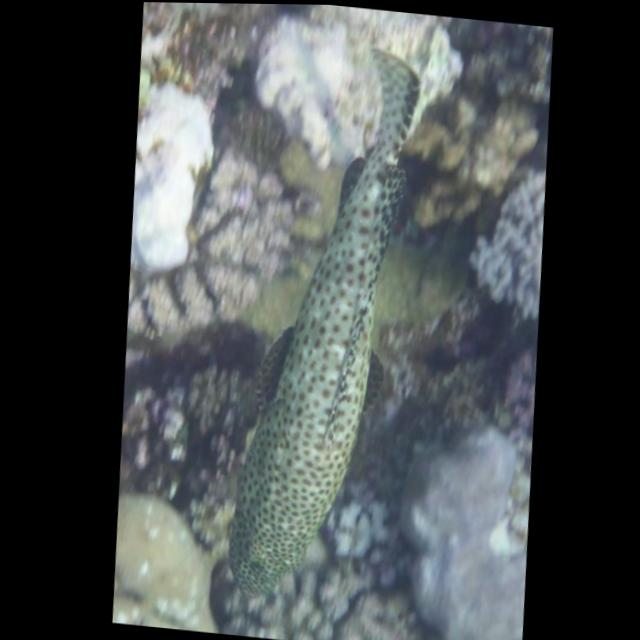Groupers: (200, 33, 446, 616)
